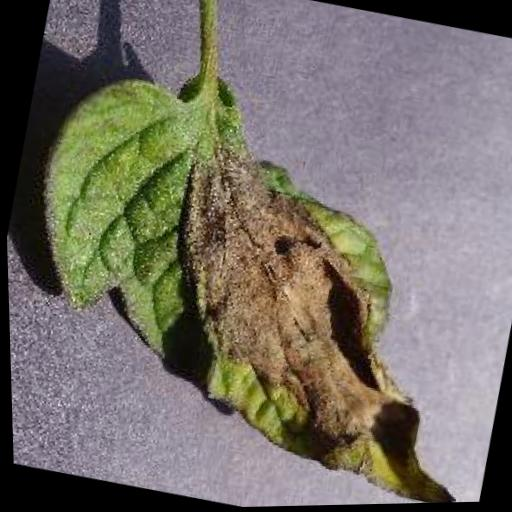Late Blight: (1, 48, 512, 512)
